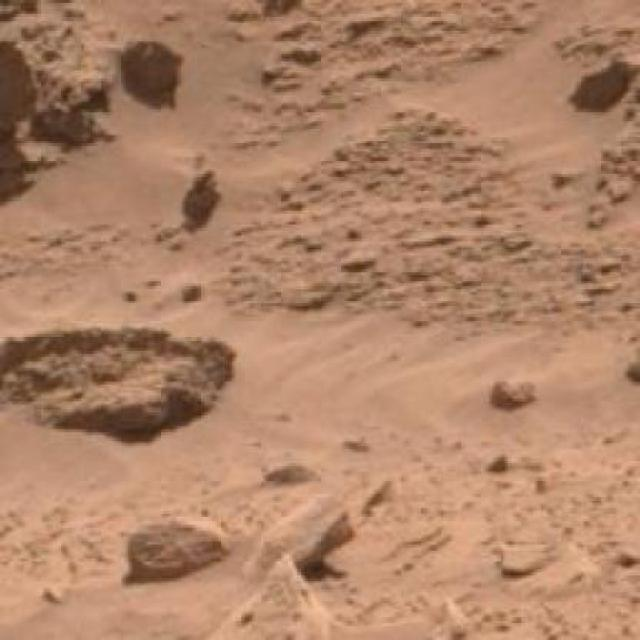rock: (0, 327, 235, 435), (0, 0, 48, 180), (122, 517, 236, 578)
